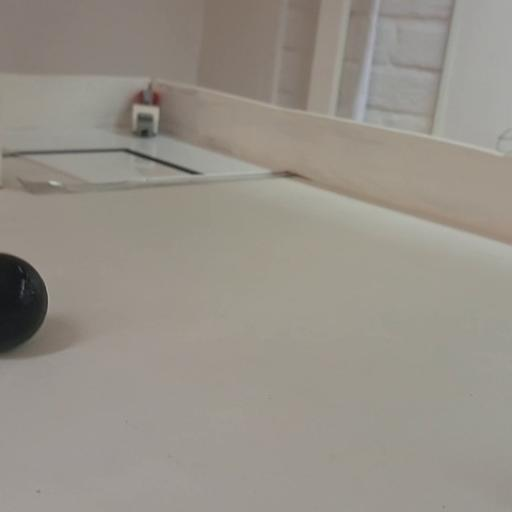dead: (0, 252, 50, 354)
